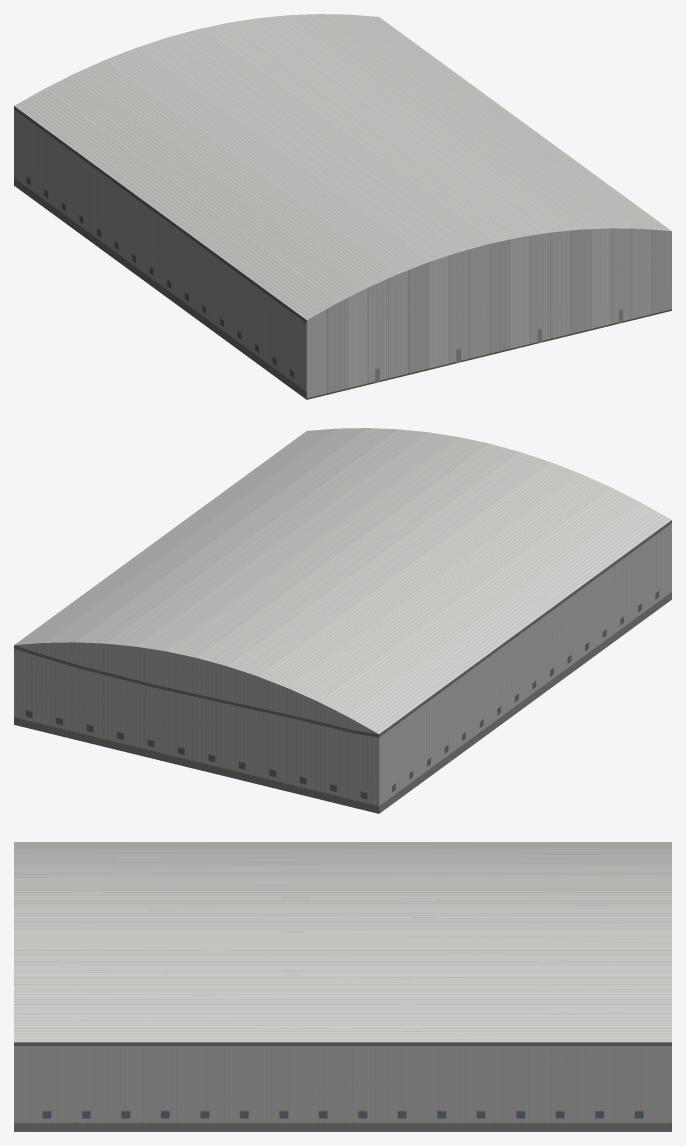
File: khsv_hangar_72x100.glb
3 renders of one model, top to bottom at view 1: azimuth 30°, elevation 25°; view 2: azimuth 150°, elevation 25°; view 3: azimuth 270°, elevation 25°, orthographic. The views are drawn at different scales.
Parts seen in each view (by area): view 1: khsv_hangar_72x100_hangar_roof, khsv_hangar_72x100_hangar_door, khsv_hangar_72x100_hangar_wall; view 2: khsv_hangar_72x100_hangar_roof, khsv_hangar_72x100_hangar_wall; view 3: khsv_hangar_72x100_hangar_roof, khsv_hangar_72x100_hangar_wall.
Part boxes in pixels (bbox=[...]): khsv_hangar_72x100_hangar_roof: bbox=[14, 14, 671, 319]; khsv_hangar_72x100_hangar_door: bbox=[306, 228, 671, 399]; khsv_hangar_72x100_hangar_wall: bbox=[14, 106, 306, 399]; khsv_hangar_72x100_hangar_roof: bbox=[14, 428, 671, 733]; khsv_hangar_72x100_hangar_wall: bbox=[14, 520, 671, 813]; khsv_hangar_72x100_hangar_roof: bbox=[14, 842, 671, 1042]; khsv_hangar_72x100_hangar_wall: bbox=[14, 1042, 671, 1131].
Bounding box in the file's own units: 72 × 21 × 100.
3 materials, 3 textured.
